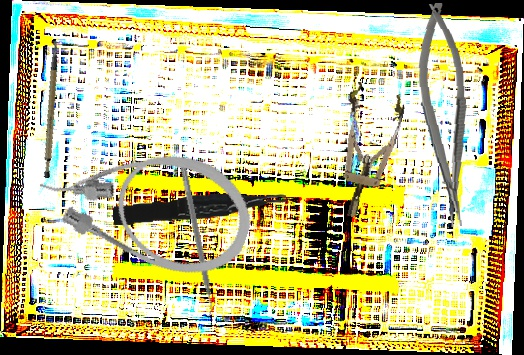Cannula: (26, 113, 266, 293)
Needle Holder: (415, 1, 473, 229)
Scalpel Handle: (25, 41, 80, 179)
Spatula Surgical: (171, 156, 219, 319)
Speculum: (322, 80, 409, 223)
Tissue Forceps: (112, 190, 288, 226)
